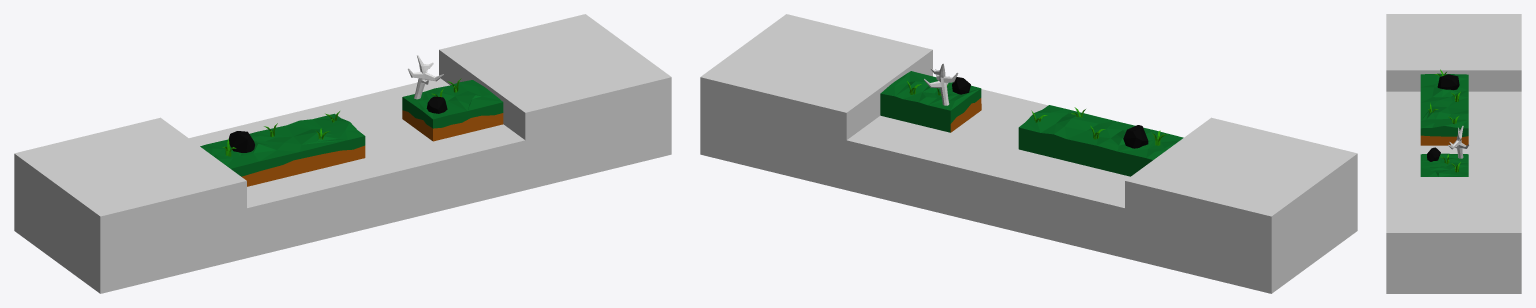
File: Easy_Obstacle_Forest_6.fbx
The picture shows the model from 3 angles, left to right: view 1: azimuth 30°, elevation 25°; view 2: azimuth 150°, elevation 25°; view 3: azimuth 270°, elevation 25°; orthographic projection. The views are drawn at different scales.
Parts seen in each view (by area): view 1: Cube, Icosphere.008, Snow Long Snow Tree.002; view 2: Cube, Icosphere.008, Snow Long Snow Tree.002; view 3: Cube, Icosphere.008, Snow Long Snow Tree.002.
Part boxes in pixels (left/top/right/bottom): Cube: left=14, top=14, right=671, bottom=293; Icosphere.008: left=200, top=78, right=503, bottom=186; Snow Long Snow Tree.002: left=408, top=55, right=443, bottom=99; Cube: left=700, top=14, right=1357, bottom=293; Icosphere.008: left=880, top=71, right=1183, bottom=176; Snow Long Snow Tree.002: left=924, top=63, right=958, bottom=105; Cube: left=1386, top=14, right=1521, bottom=293; Icosphere.008: left=1420, top=69, right=1468, bottom=176; Snow Long Snow Tree.002: left=1448, top=126, right=1469, bottom=158.
Bounding box in the file's own units: 10231 × 1942 × 2676.
